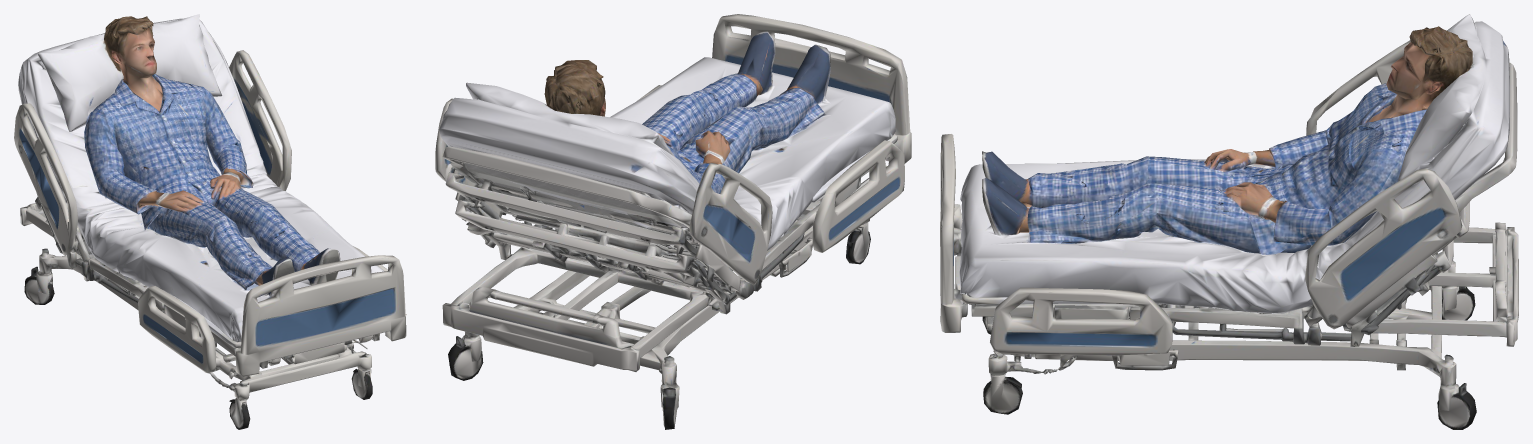
3 views of the same model, side by side, from view 1: azimuth 30°, elevation 25°; view 2: azimuth 150°, elevation 25°; view 3: azimuth 270°, elevation 25° (orthographic). The views are drawn at different scales.
Parts seen in each view (by area): view 1: m2; view 2: m2; view 3: m2.
Part boxes in pixels (left/top/right/bottom): m2: left=14, top=14, right=406, bottom=429; m2: left=435, top=14, right=911, bottom=429; m2: left=940, top=14, right=1518, bottom=429.
Bounding box in the file's own units: 1.07 × 1.25 × 1.9.
1 material, 1 textured.
